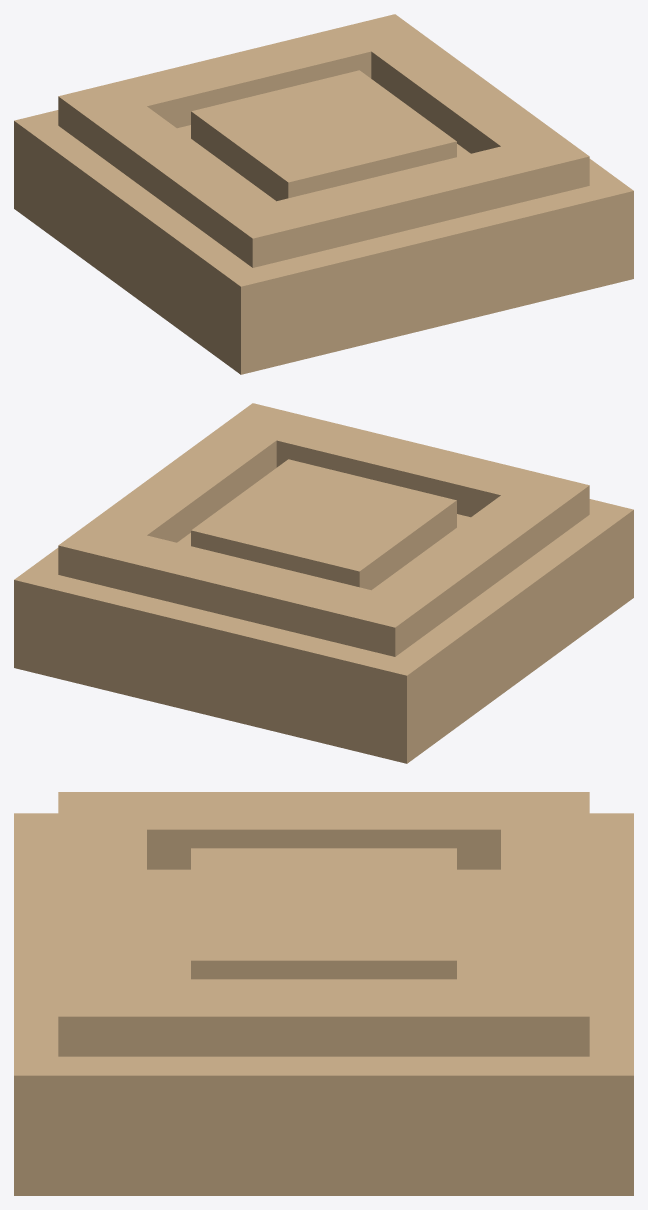
File: man-v3-tan.gltf
3 views of the same model, one above another, from view 1: azimuth 30°, elevation 25°; view 2: azimuth 150°, elevation 25°; view 3: azimuth 270°, elevation 25° (orthographic). The views are drawn at different scales.
Visible parts, largest first — view 1: Untitled; view 2: Untitled; view 3: Untitled.
Part boxes in pixels (box(x1,y1,x2,y2)): Untitled: box(14, 14, 633, 374); Untitled: box(14, 403, 633, 763); Untitled: box(14, 792, 633, 1195).
Bounding box in the file's own units: 1.4 × 0.4 × 1.4.
Materials: 1 (1 with a texture image).
